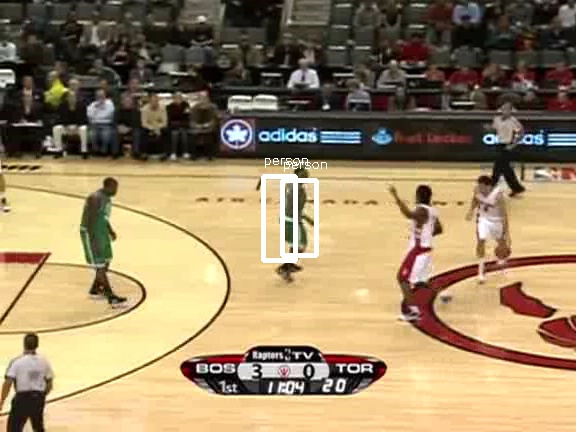person: (274, 179, 308, 260), (273, 179, 307, 260), (275, 179, 309, 260), (274, 178, 308, 259), (274, 180, 308, 261)
target_negative: (147, 185, 471, 340), (119, 256, 448, 300), (499, 38, 537, 227), (336, 361, 366, 378), (454, 12, 469, 31), (296, 429, 383, 431)
